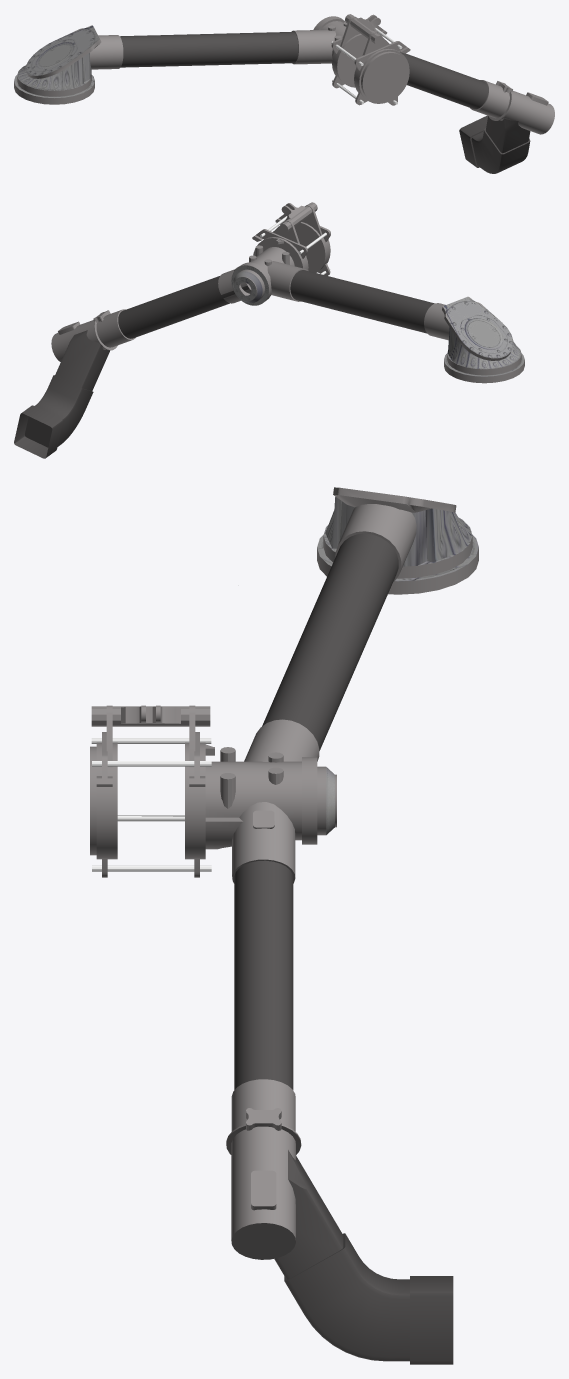
The model's file is susp_left_back.glb.
3 renders of one model, top to bottom at view 1: azimuth 30°, elevation 25°; view 2: azimuth 150°, elevation 25°; view 3: azimuth 270°, elevation 25°, orthographic. The views are drawn at different scales.
Visible parts, largest first — view 1: suspension.003; view 2: suspension.003; view 3: suspension.003.
Part boxes in pixels (x1,y1,x2,y2): suspension.003: (14, 14, 554, 173); suspension.003: (14, 202, 524, 458); suspension.003: (90, 487, 478, 1364).
Bounding box in the file's own units: 1.22 × 0.5628 × 0.414.
Materials: 4 (1 with a texture image).
